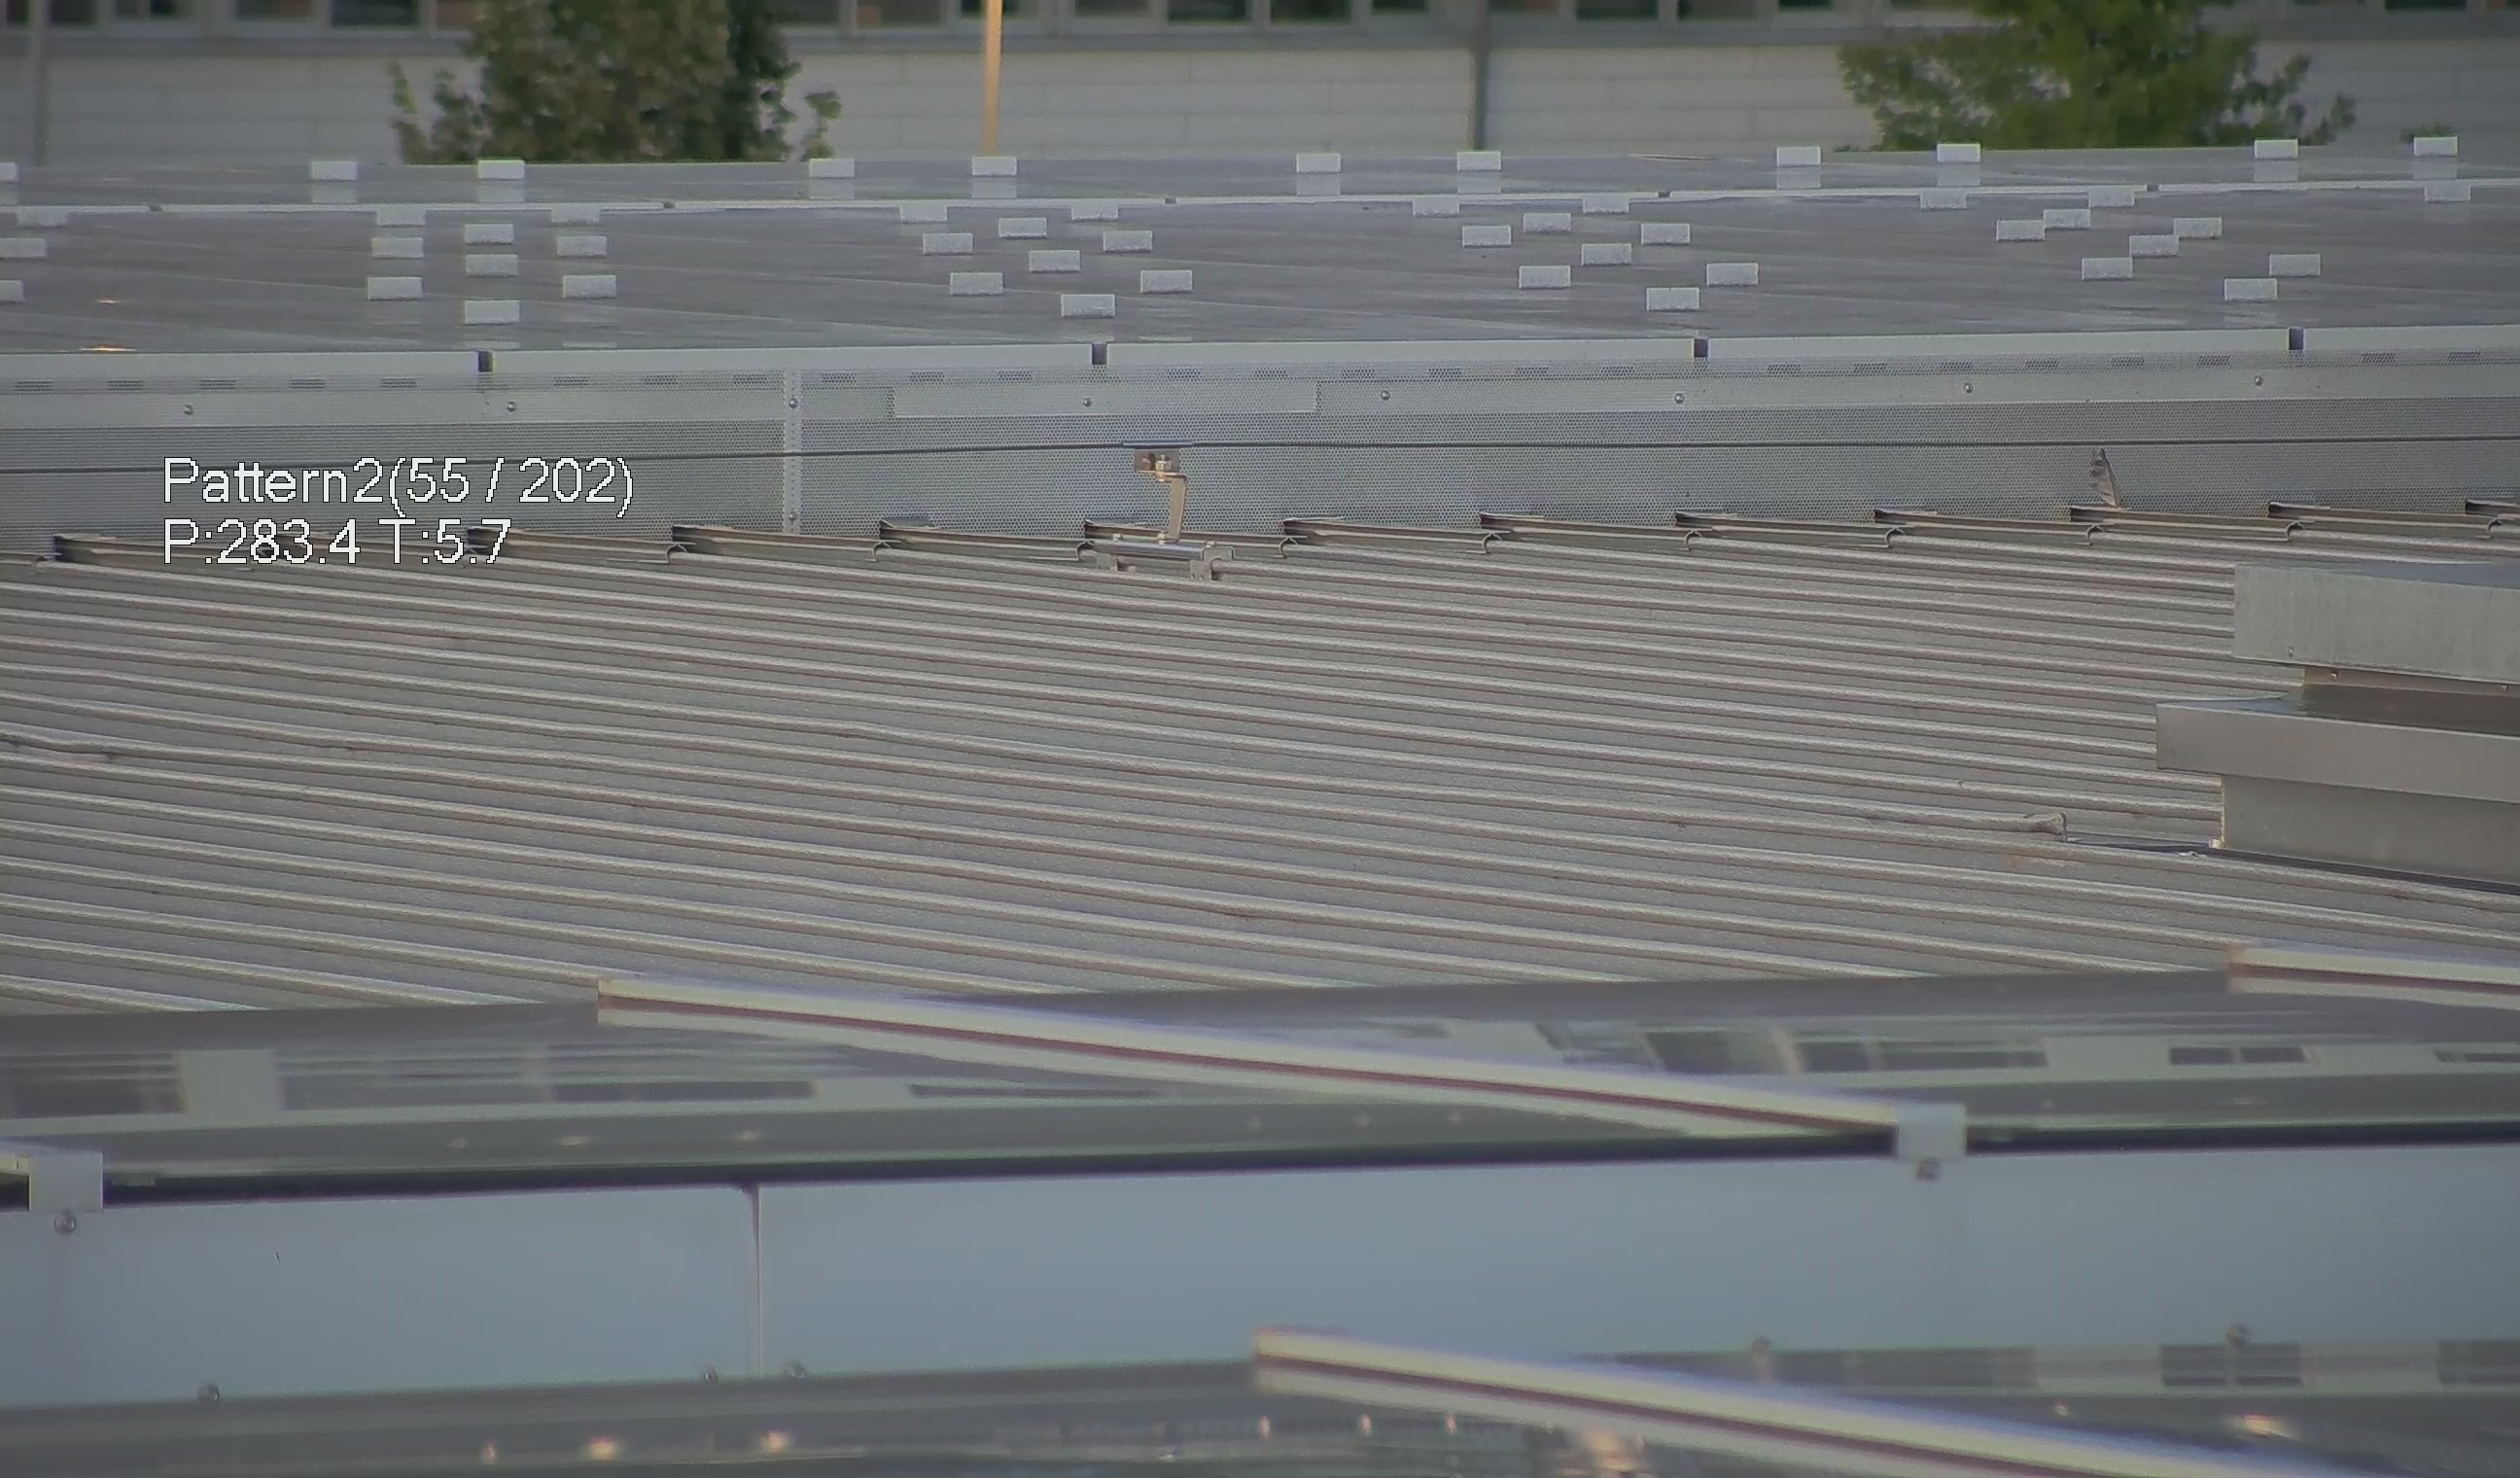Other: (2080, 431, 2137, 528)
